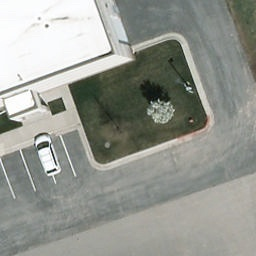car: (31, 133, 63, 178)
